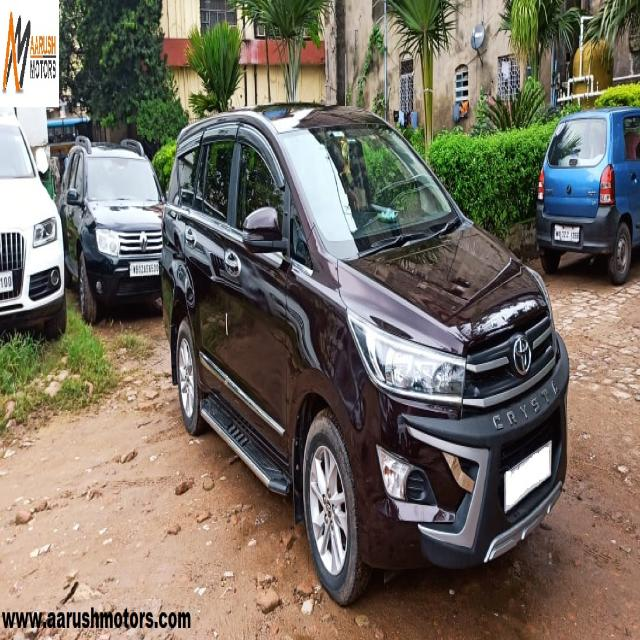light_vehicle: (159, 103, 570, 606)
